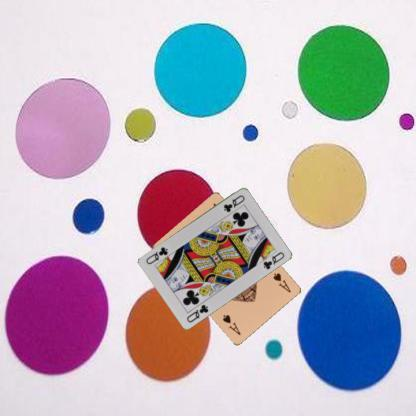As: (270, 270, 292, 294)
Qc: (184, 302, 209, 324), (221, 192, 246, 213)
